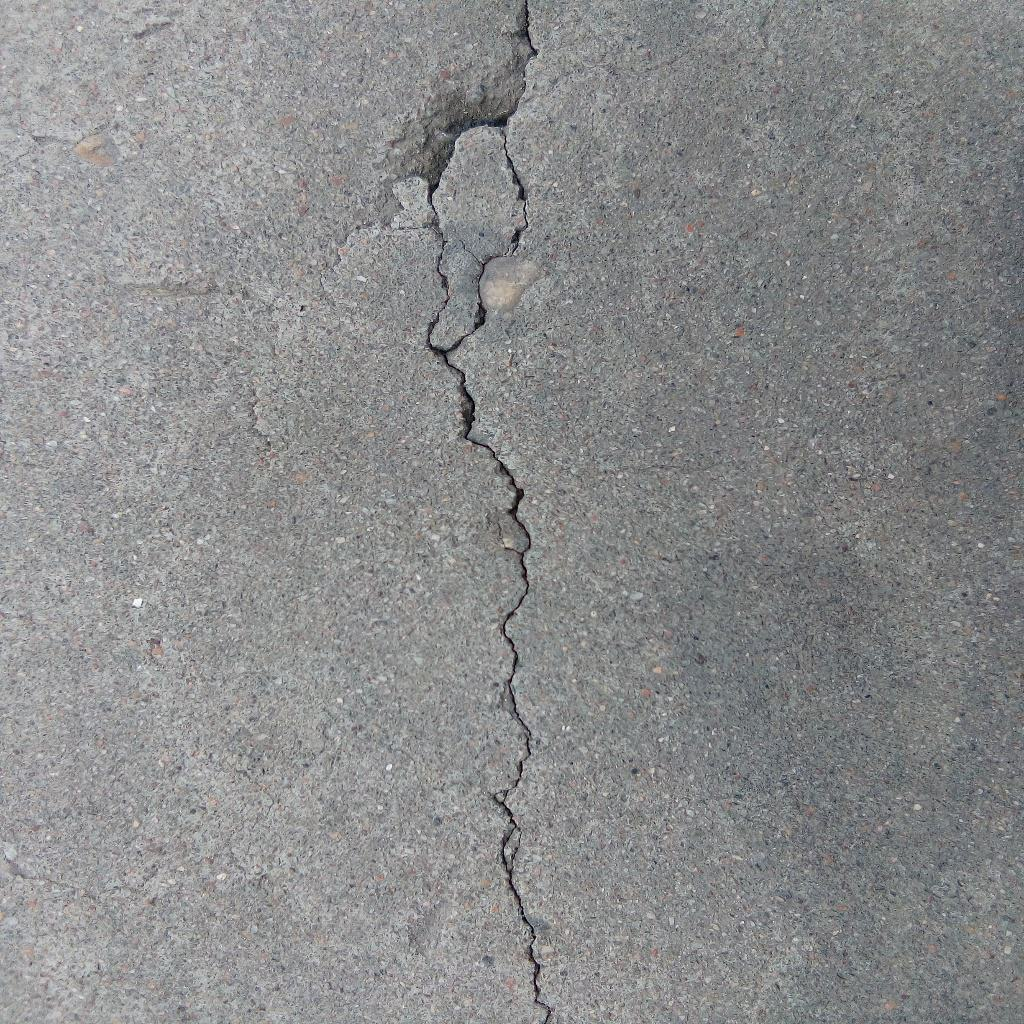Crack: (427, 1, 552, 1024)
